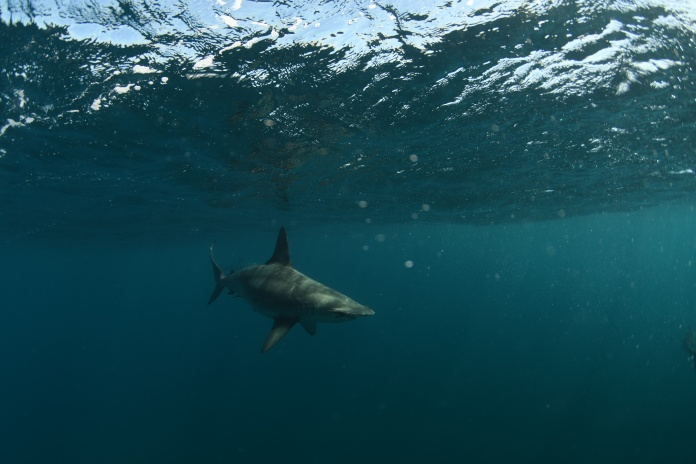Hammer: (179, 213, 411, 372)
